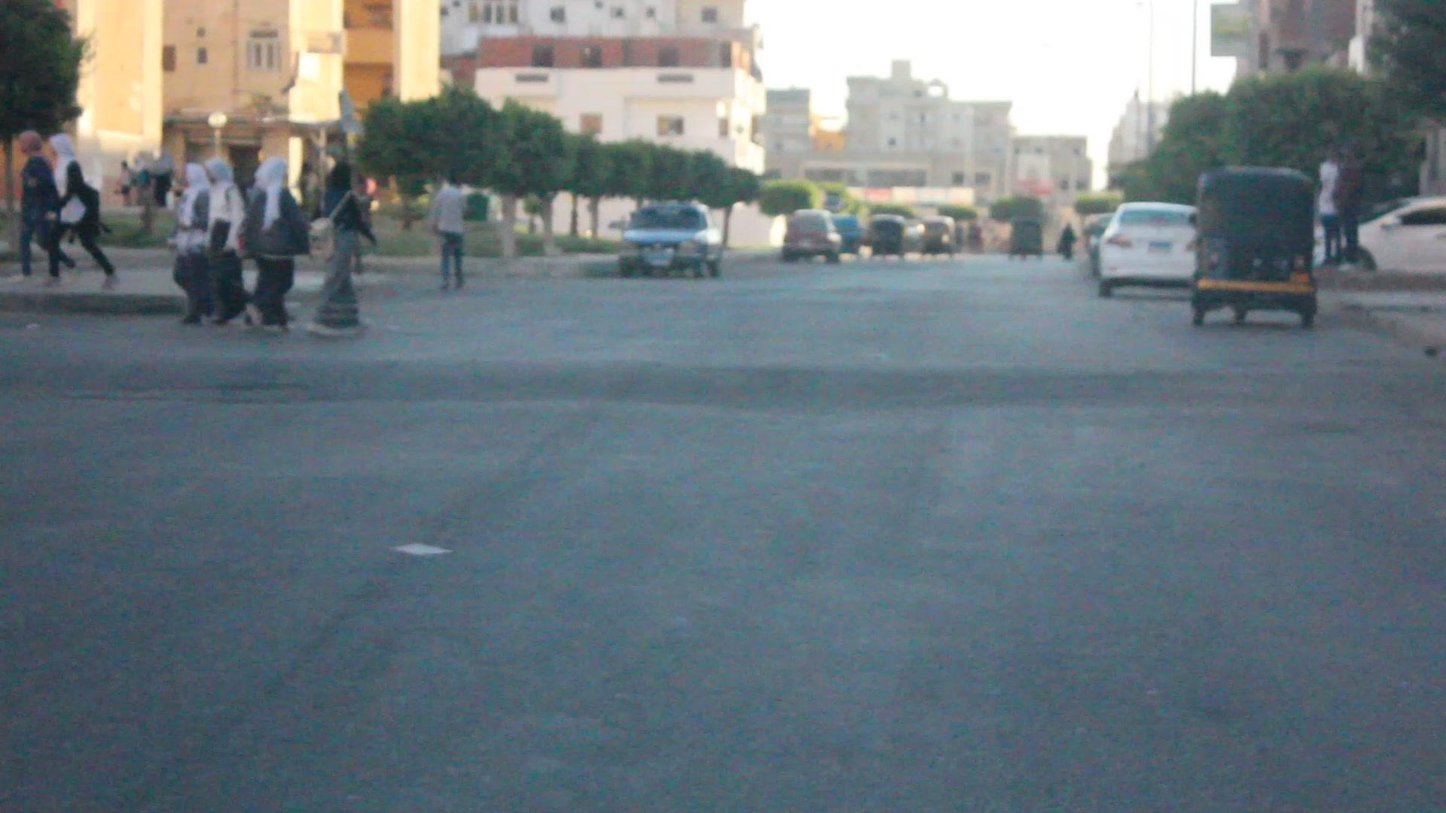Bump: (13, 338, 1445, 403)
